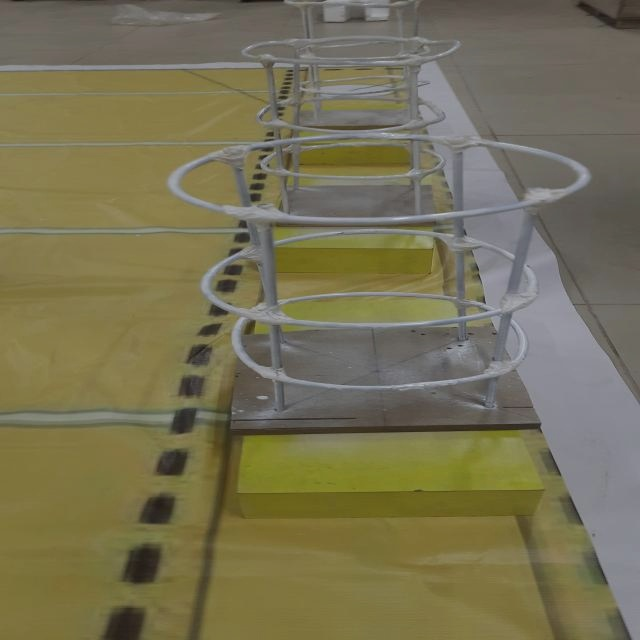silo: (141, 126, 613, 451), (225, 28, 495, 215)
